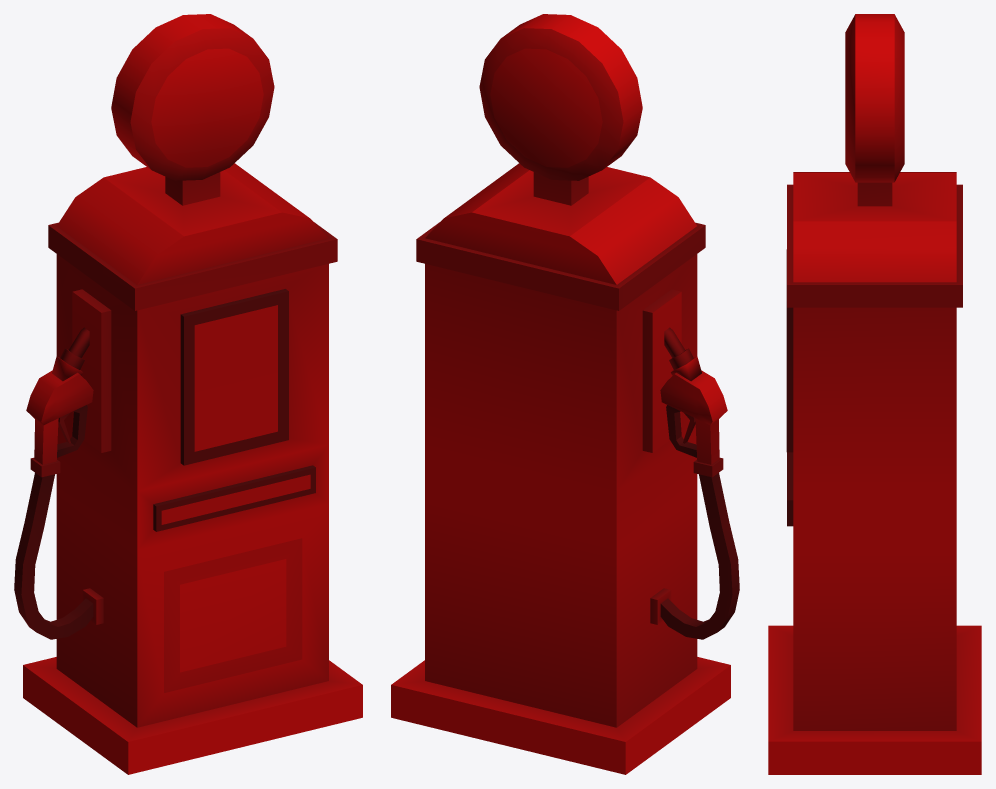
The model's file is GasPump.glb.
3 renders of one model, left to right at view 1: azimuth 30°, elevation 25°; view 2: azimuth 150°, elevation 25°; view 3: azimuth 270°, elevation 25°, orthographic.
Visible parts, largest first — view 1: GasPump; view 2: GasPump; view 3: GasPump.
Boxes of the visible parts, left/top/right/bottom form: GasPump: left=14, top=14, right=362, bottom=774; GasPump: left=391, top=14, right=739, bottom=774; GasPump: left=768, top=14, right=981, bottom=774.
Bounding box in the file's own units: 3.87 × 8.68 × 2.41.
